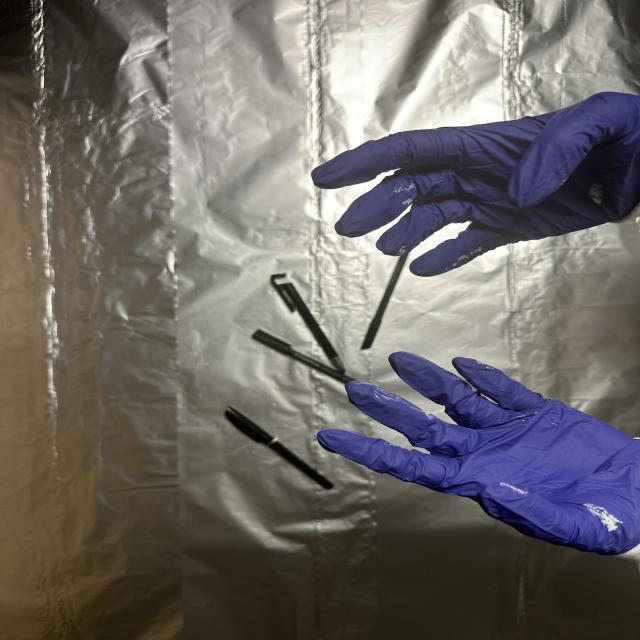gloves_contaminated: (317, 351, 640, 562), (311, 91, 640, 276)
